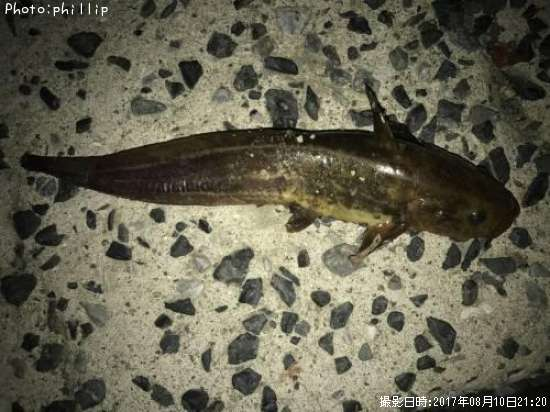gonzui: (17, 89, 540, 256)
